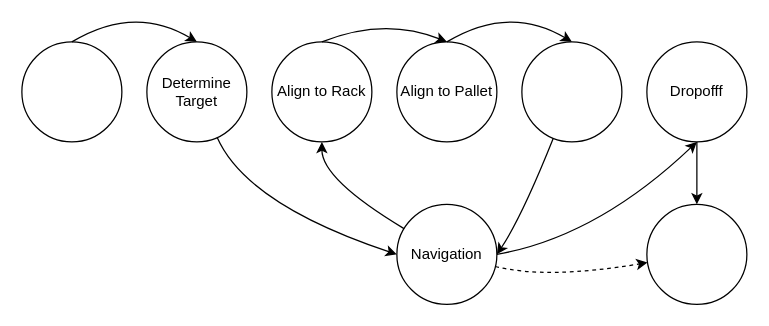
The diagram is 769 pixels wide and 326 high, and some of its shapes have lost their labels. The box of each missing label's shape, as (x1, y1, x2, y2) in pixels:
Pickup: (521, 41, 622, 142)
Safe: (646, 203, 747, 304)
Startup: (21, 41, 122, 142)
